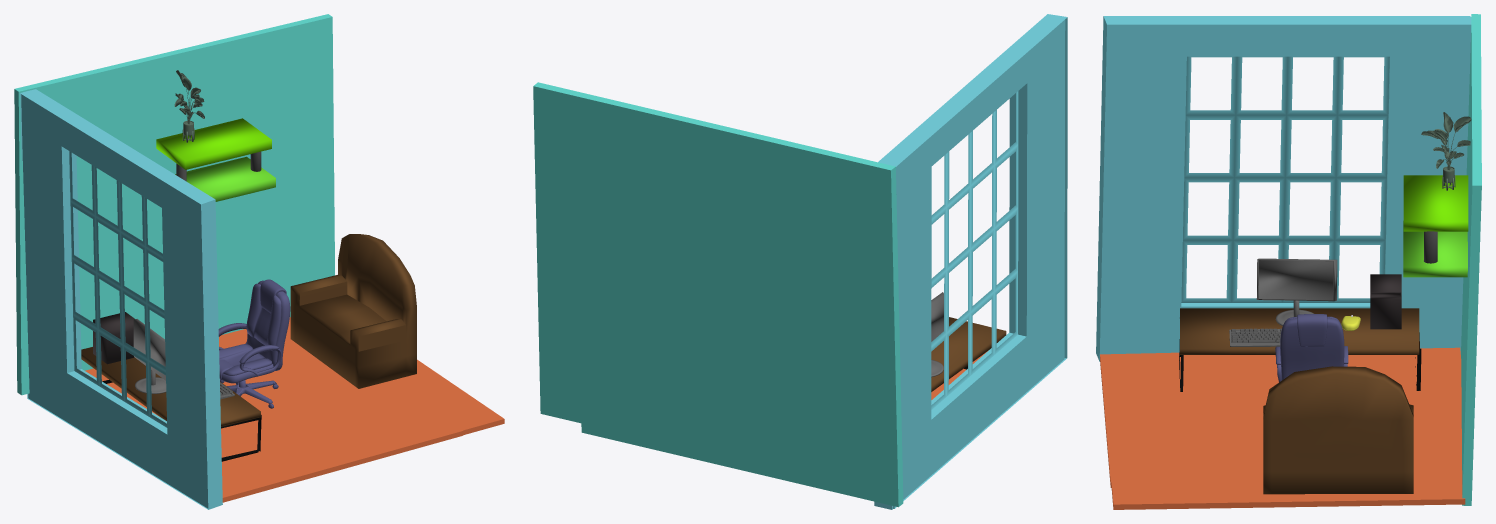
Rendered from Mini_setup.gltf.
3 renders of one model, left to right at view 1: azimuth 30°, elevation 25°; view 2: azimuth 150°, elevation 25°; view 3: azimuth 270°, elevation 25°, orthographic. The views are drawn at different scales.
Visible parts, largest first — view 1: Pared, Ventana, Piso, Plano.006, uploads_files_4599737_chair+obj, Repisa 1, Mesa, Repisa 2, Gabinete, monitor, matita petalos; view 2: Pared, Ventana, Mesa; view 3: Ventana, Piso, Plano.006, Mesa, Pared, uploads_files_4599737_chair+obj, Repisa 1, monitor, Repisa 2, Gabinete, matita petalos, Keys (+1 smaller).
Boxes of the visible parts, box(x1,y1,x2,y2) form: Pared: box(14, 14, 334, 395); Ventana: box(20, 89, 222, 509); Piso: box(85, 317, 504, 502); Plano.006: box(290, 234, 416, 388); uploads_files_4599737_chair+obj: box(218, 279, 290, 408); Repisa 1: box(156, 118, 271, 169); Mesa: box(81, 347, 260, 426); Repisa 2: box(175, 156, 275, 201); Gabinete: box(93, 312, 134, 364); monitor: box(133, 319, 165, 380); matita petalos: box(174, 70, 204, 123); Pared: box(533, 82, 903, 507); Ventana: box(874, 14, 1067, 509); Mesa: box(931, 317, 1006, 391); Ventana: box(1096, 16, 1471, 361); Piso: box(1100, 347, 1465, 509); Plano.006: box(1263, 366, 1413, 494); Mesa: box(1180, 308, 1419, 354); Pared: box(1461, 14, 1481, 505); uploads_files_4599737_chair+obj: box(1275, 314, 1348, 382); Repisa 1: box(1403, 175, 1468, 231); monitor: box(1256, 258, 1337, 301); Repisa 2: box(1403, 221, 1467, 277); Gabinete: box(1370, 274, 1401, 329); matita petalos: box(1421, 112, 1471, 170); Keys: box(1231, 328, 1281, 342).
Bounding box in the file's own units: 0.8352 × 0.7633 × 0.7781.
